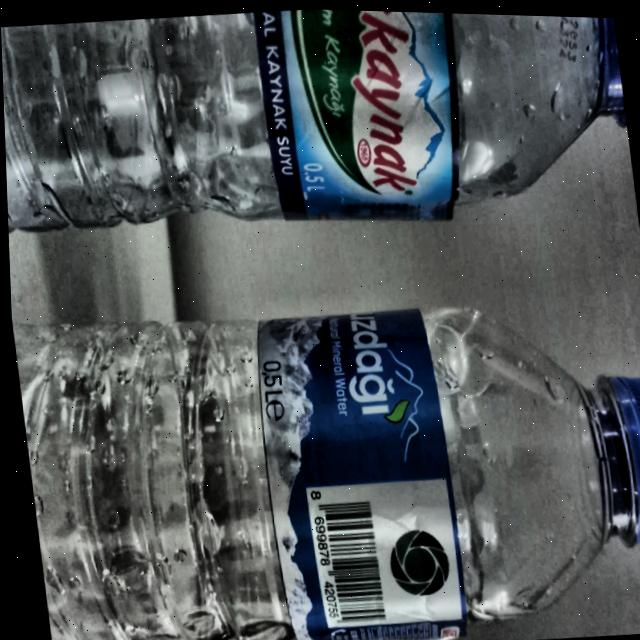plastic: (9, 302, 640, 640), (1, 7, 624, 221)
